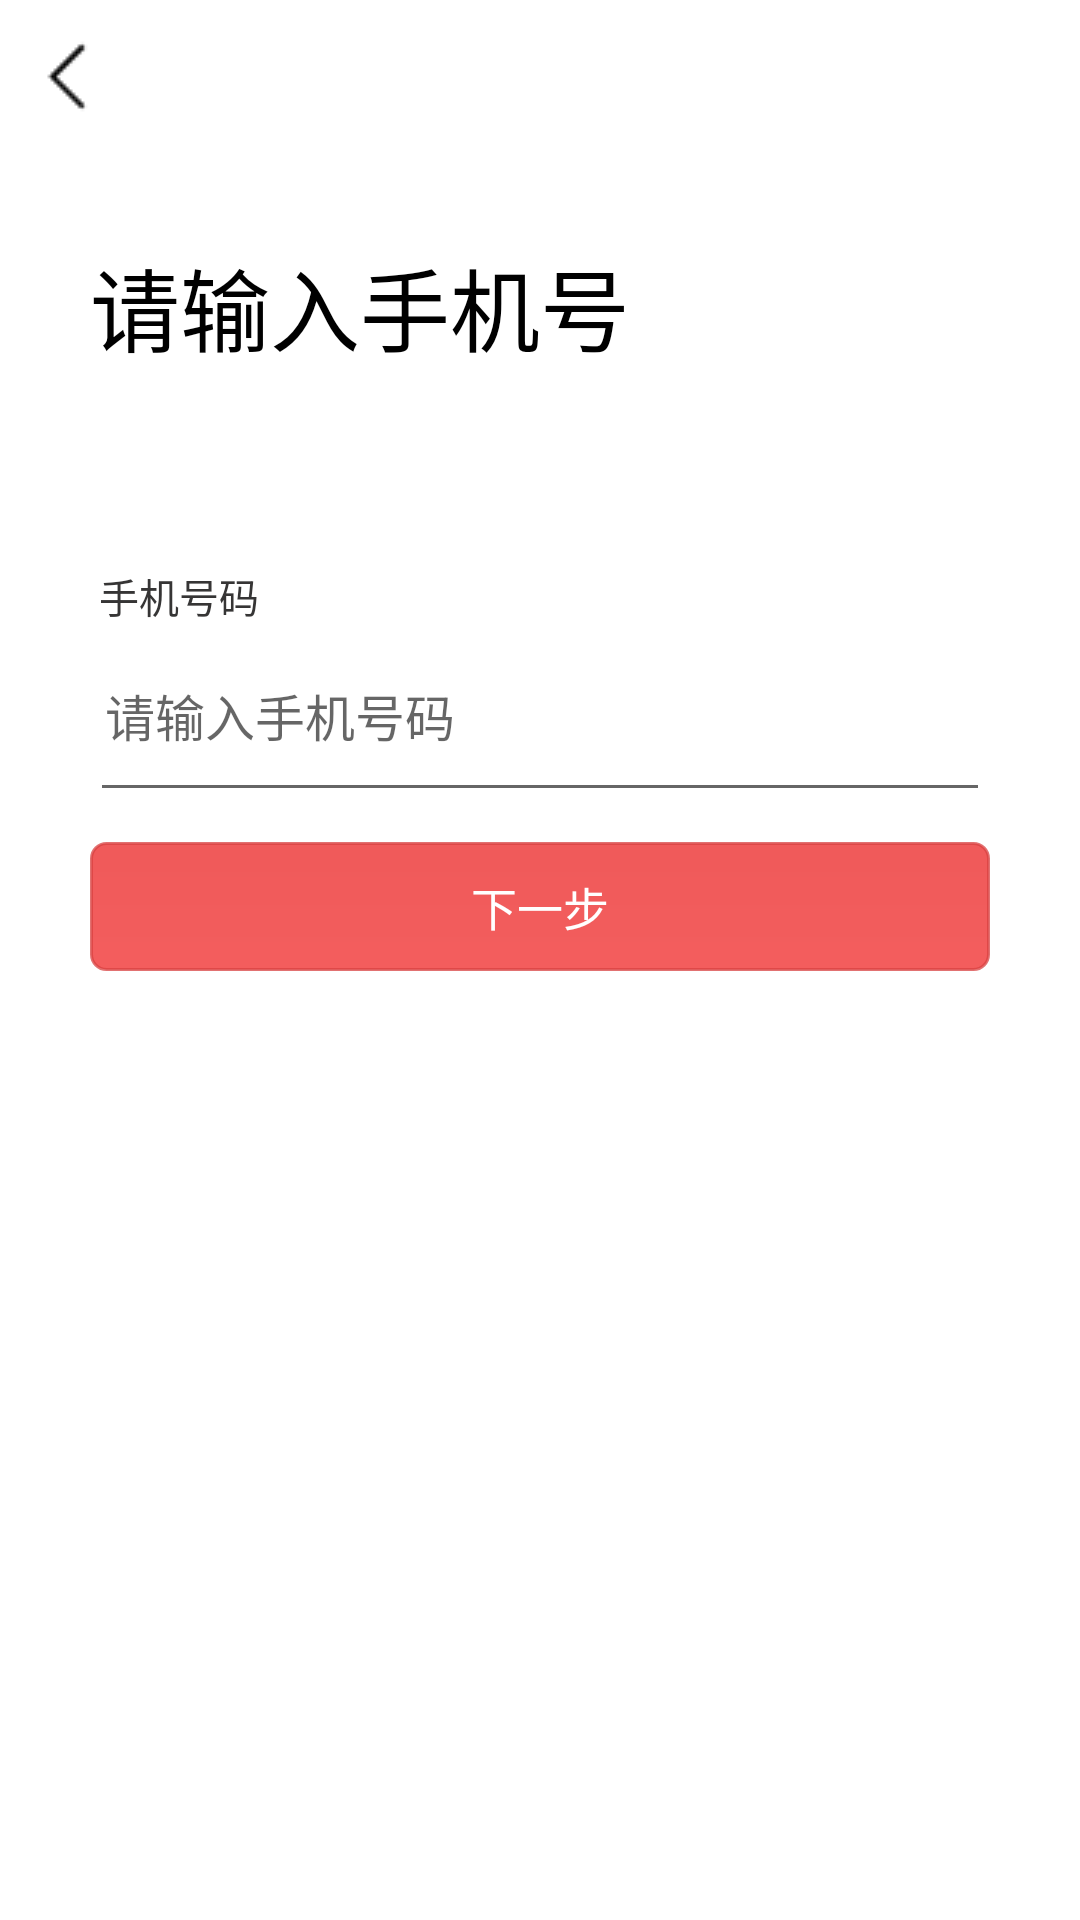

Where icons sit on this 1080 × 1920 app screen, as (x1, y1, x2, y2):
goback: (47, 44, 85, 109)
